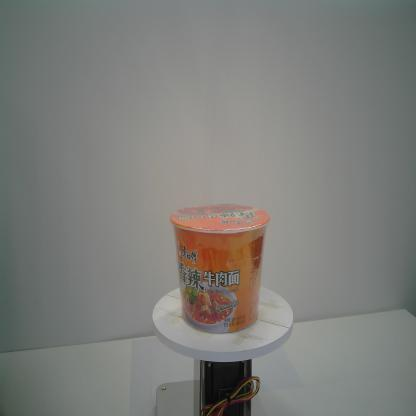Instant Noodles: (168, 203, 272, 334)
